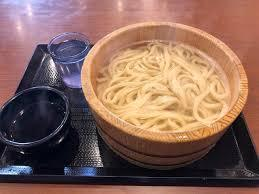kamaage: (70, 14, 258, 179)
